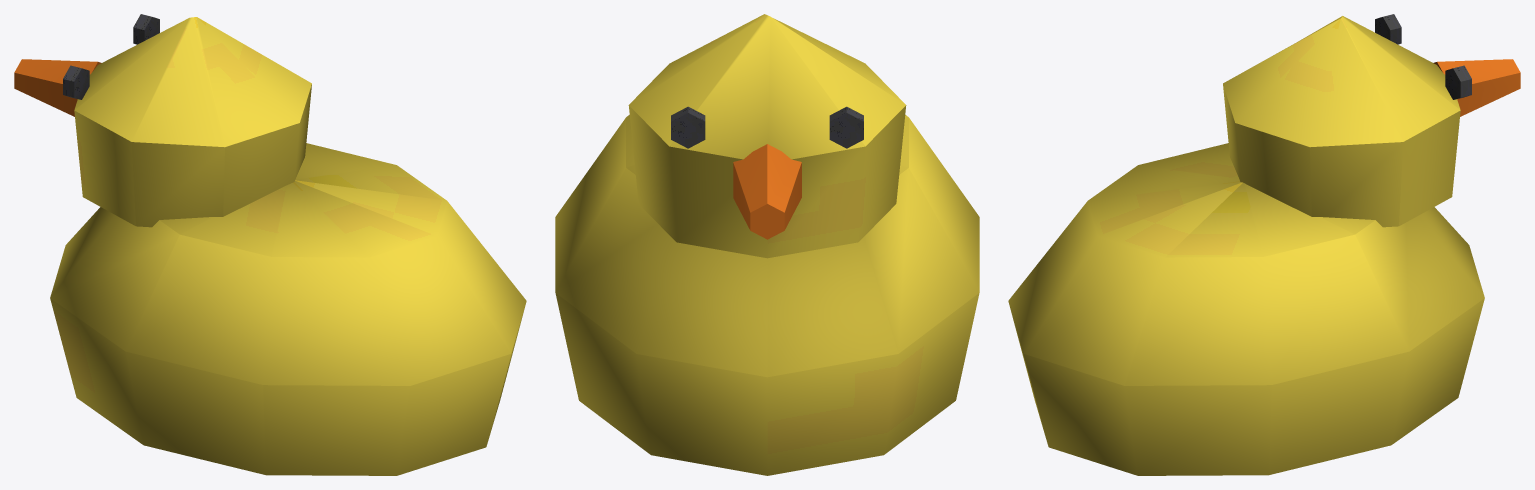
File: rubber_duck.glb
3 views of the same model, side by side, from view 1: azimuth 30°, elevation 25°; view 2: azimuth 150°, elevation 25°; view 3: azimuth 270°, elevation 25° (orthographic). The views are drawn at different scales.
Visible parts, largest first — view 1: rubber_duck; view 2: rubber_duck; view 3: rubber_duck.
Part boxes in pixels (box(x1,y1,x2,y2)): rubber_duck: box(14, 14, 526, 475); rubber_duck: box(555, 14, 979, 475); rubber_duck: box(1008, 14, 1520, 475).
Size of the model in its own units: 0.0931 by 0.095 by 0.1166.
Materials: 1 (1 with a texture image).
